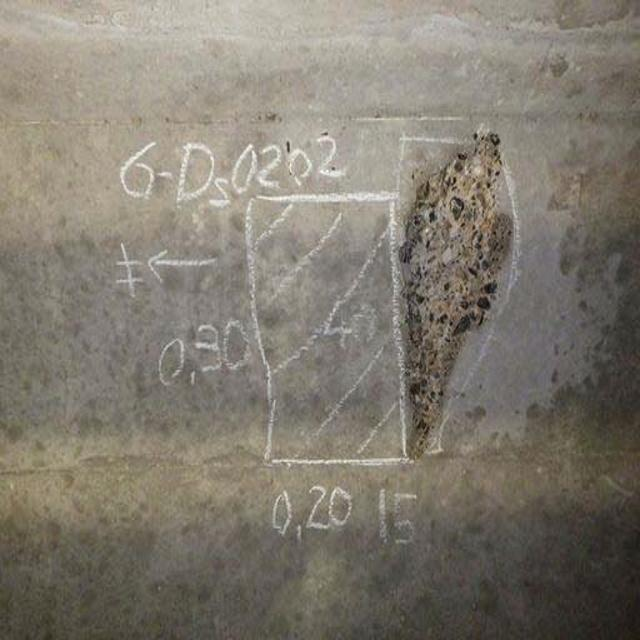spalling: (378, 126, 526, 460)
